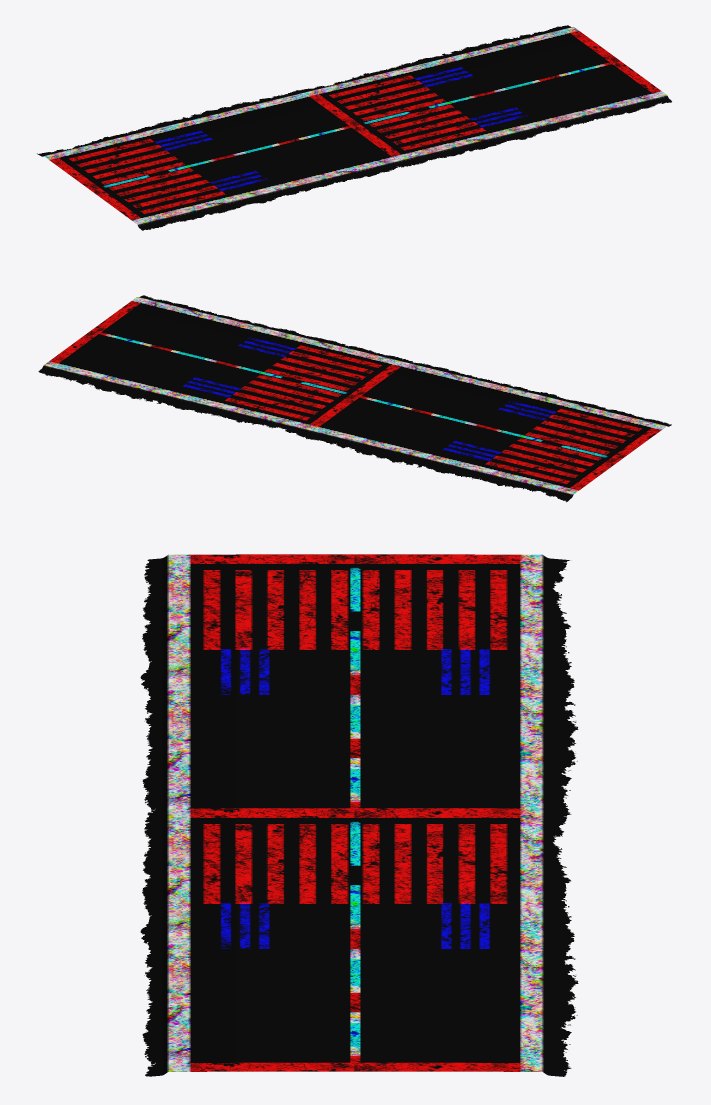
Rendered from SM_Runway_3_AimPoint.fbx.
3 views of the same model, one above another, from view 1: azimuth 30°, elevation 25°; view 2: azimuth 150°, elevation 25°; view 3: azimuth 270°, elevation 25° (orthographic). The views are drawn at different scales.
Visible parts, largest first — view 1: SM_Runway_3_AimPoint_LOD0; view 2: SM_Runway_3_AimPoint_LOD0; view 3: SM_Runway_3_AimPoint_LOD0.
Boxes of the visible parts, x1=… form: SM_Runway_3_AimPoint_LOD0: x1=37, y1=25, x2=671, y2=230; SM_Runway_3_AimPoint_LOD0: x1=38, y1=295, x2=671, y2=502; SM_Runway_3_AimPoint_LOD0: x1=140, y1=554, x2=578, y2=1076.
Size of the model in its own units: 10000 by 5000 by 169.
1 material, 1 textured.
